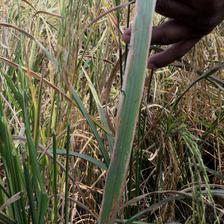2 BacterialBlight: (102, 5, 141, 211)
